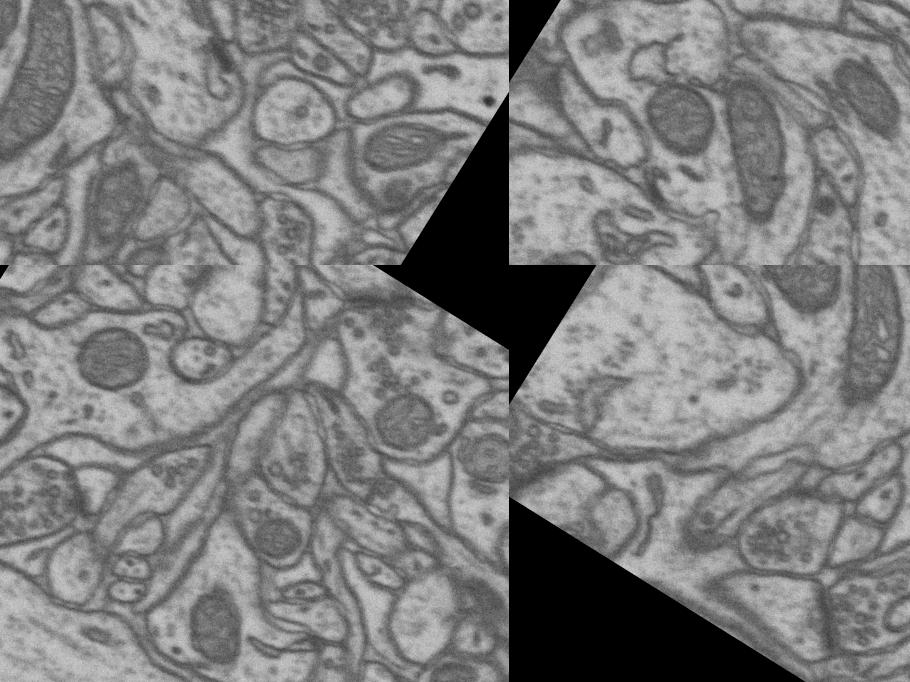mitochondria: (670, 69, 834, 239), (0, 0, 125, 183), (782, 265, 910, 422), (41, 289, 172, 418), (410, 535, 509, 682), (619, 59, 739, 177), (340, 352, 452, 464), (799, 34, 910, 146), (344, 93, 454, 202), (62, 150, 165, 262), (163, 590, 280, 682), (726, 265, 869, 338), (228, 474, 321, 572), (434, 401, 509, 515), (509, 398, 541, 478), (847, 652, 910, 682)
